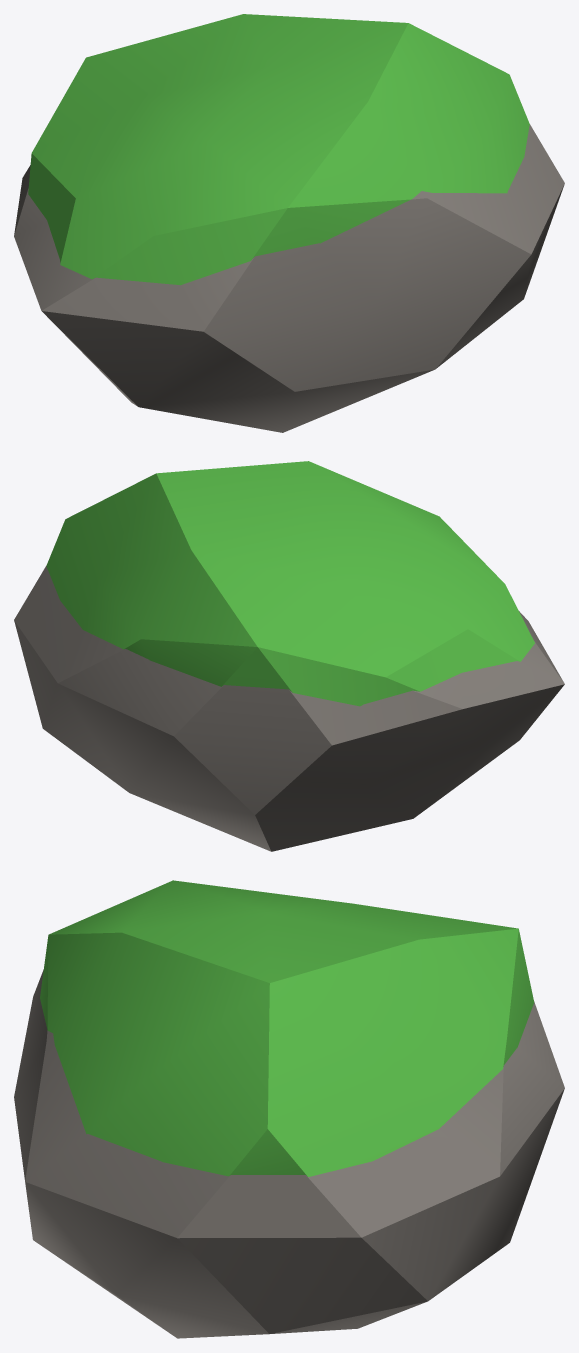
The model's file is Boulder.fbx.
The picture shows the model from 3 angles, top to bottom: view 1: azimuth 30°, elevation 25°; view 2: azimuth 150°, elevation 25°; view 3: azimuth 270°, elevation 25°; orthographic projection. The views are drawn at different scales.
Parts seen in each view (by area): view 1: Boulder_Leaf, Boulder_Stone; view 2: Boulder_Leaf, Boulder_Stone; view 3: Boulder_Leaf, Boulder_Stone.
Part boxes in pixels (bbox=[...]): Boulder_Leaf: bbox=[28, 14, 529, 285]; Boulder_Stone: bbox=[14, 124, 564, 432]; Boulder_Leaf: bbox=[46, 461, 534, 706]; Boulder_Stone: bbox=[14, 566, 564, 851]; Boulder_Leaf: bbox=[40, 880, 534, 1176]; Boulder_Stone: bbox=[14, 970, 564, 1338].
Bounding box in the file's own units: 338 × 211 × 262.
